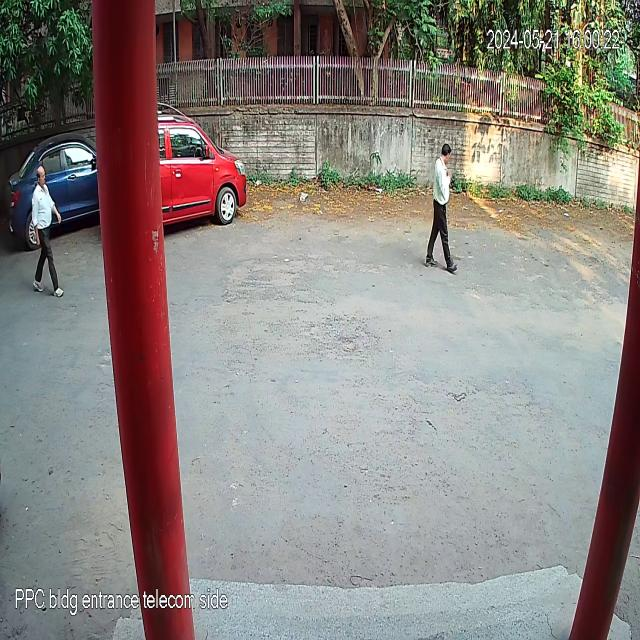NO-Boots: (446, 255, 460, 274), (424, 252, 439, 268), (33, 278, 45, 293), (53, 287, 64, 299)
NO-Hardhat: (438, 139, 453, 163), (35, 165, 46, 187)
